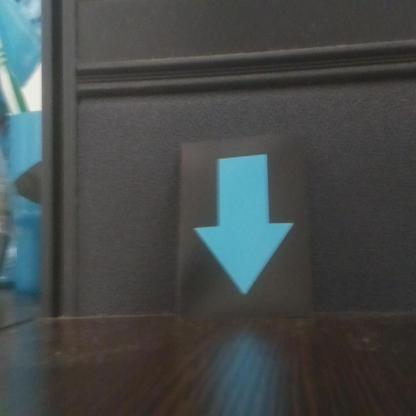down: (180, 130, 314, 320)
